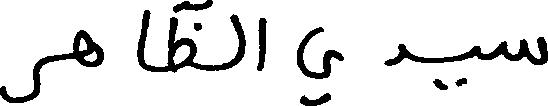X: (297, 22, 342, 105), (168, 0, 195, 77), (214, 9, 244, 75), (0, 55, 39, 105), (502, 32, 547, 69), (74, 25, 101, 71), (137, 5, 150, 75), (386, 39, 406, 70), (259, 13, 265, 75), (471, 41, 479, 63)
